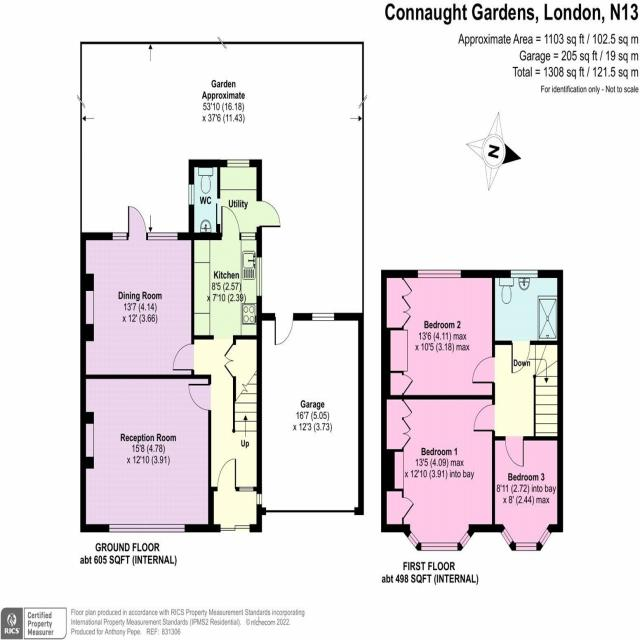DOOR: (256, 198, 282, 228), (187, 382, 212, 413), (272, 312, 295, 345), (128, 205, 148, 242), (221, 205, 242, 240), (216, 457, 236, 492), (472, 355, 495, 385), (472, 402, 494, 432), (172, 342, 194, 371), (505, 436, 524, 468)
ROOM: (80, 374, 211, 532), (80, 204, 194, 380), (403, 395, 495, 551), (403, 269, 495, 400), (191, 203, 262, 341)
WINDOW: (492, 436, 564, 551), (108, 523, 185, 533), (417, 269, 462, 279), (420, 541, 459, 551), (499, 526, 515, 548), (538, 526, 553, 549), (256, 255, 263, 298), (406, 530, 421, 549), (458, 531, 472, 550), (514, 541, 538, 552), (147, 232, 178, 240), (226, 159, 250, 168), (311, 312, 335, 321), (240, 231, 257, 241), (188, 182, 195, 206), (111, 232, 129, 241), (256, 491, 262, 505)
